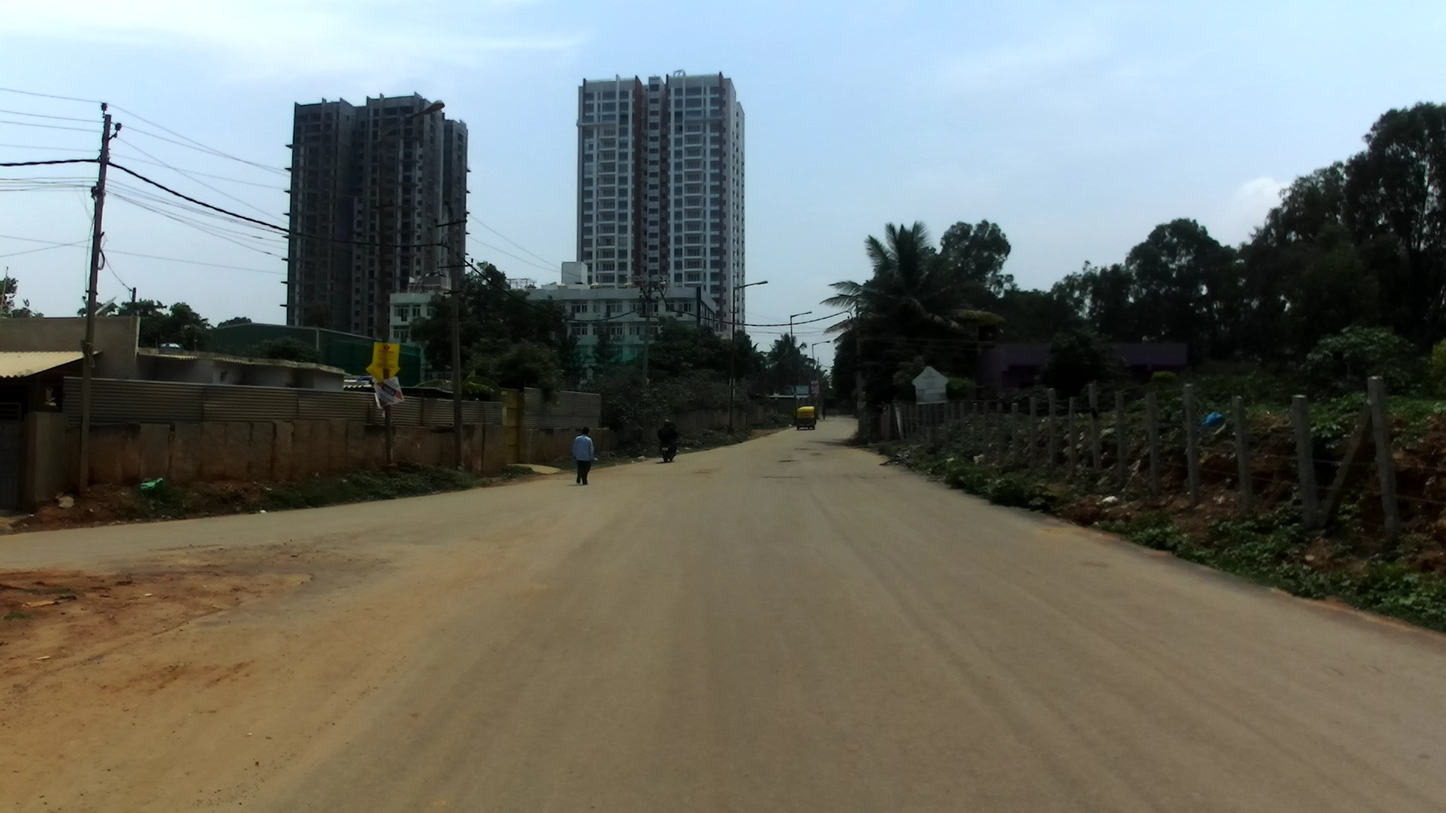autorickshaw: (795, 406, 817, 431)
motorcycle: (658, 434, 678, 463)
person: (573, 428, 593, 486), (820, 405, 828, 420)
rider: (658, 419, 676, 452)
truck: (821, 397, 837, 418)
